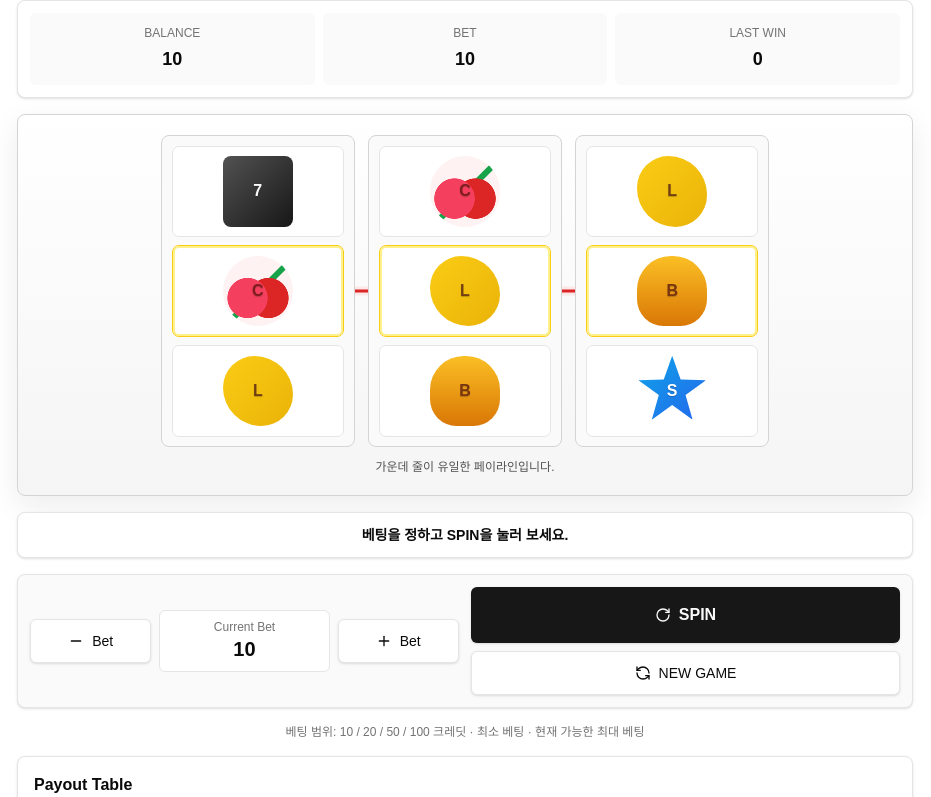
Test: SlotMachineGame › shows game over and restores the initial state with NEW GAME
The width and height of the screenshot is (931, 797).
Click the button with aria-label "슬롯 머신 스핀" at (686, 615), box [471,587,900,643]
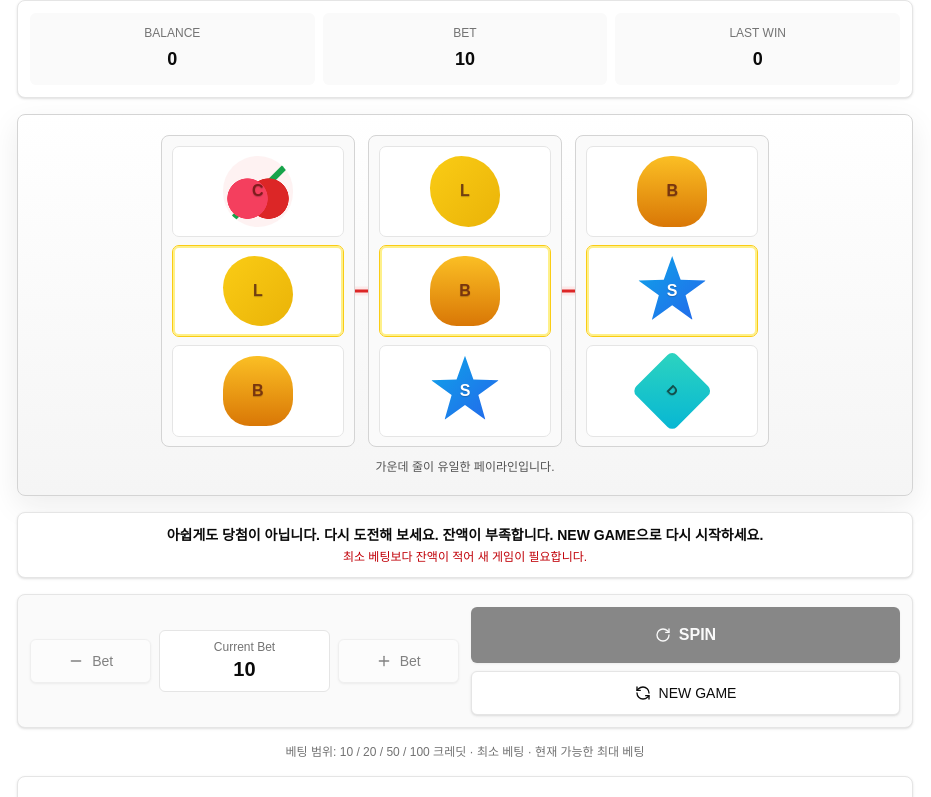
Now the text "최소 베팅보다 잔액이 적어 새 게임이 필요합니다." is shown, box [343,550,587,564]
Click the button with aria-label "새 슬롯 머신 게임 시작" at (686, 693), box [471,671,900,715]
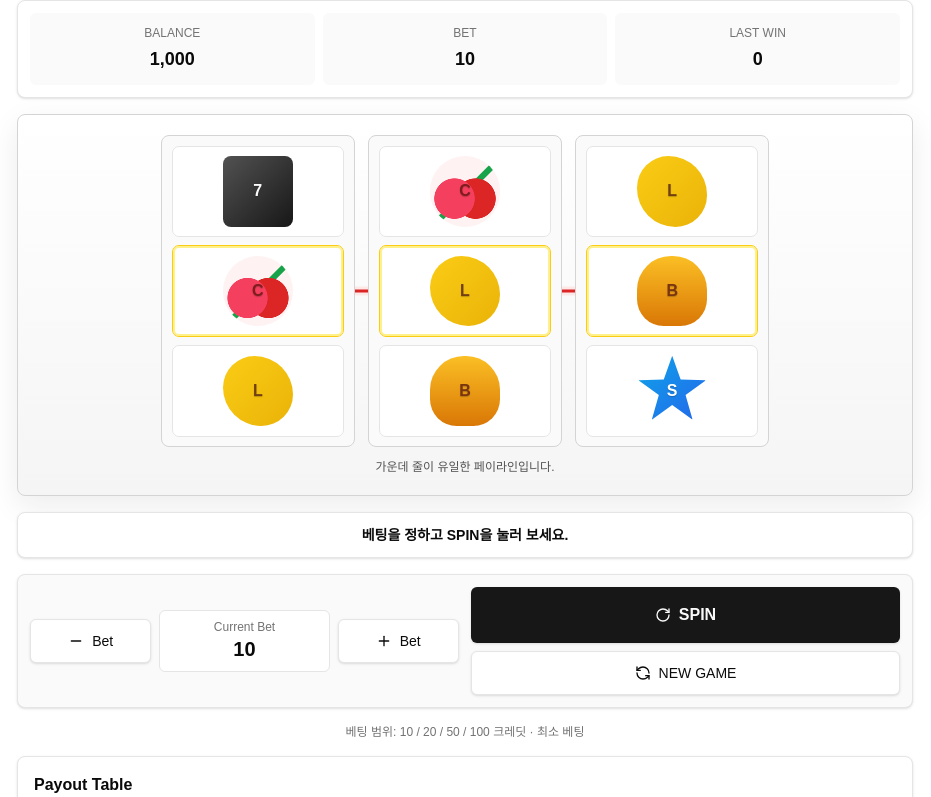
Now the text "베팅을 정하고 SPIN을 눌러 보세요." is shown, box [362,527,568,543]
Now the text "1,000" is shown, box [150,49,195,69]
